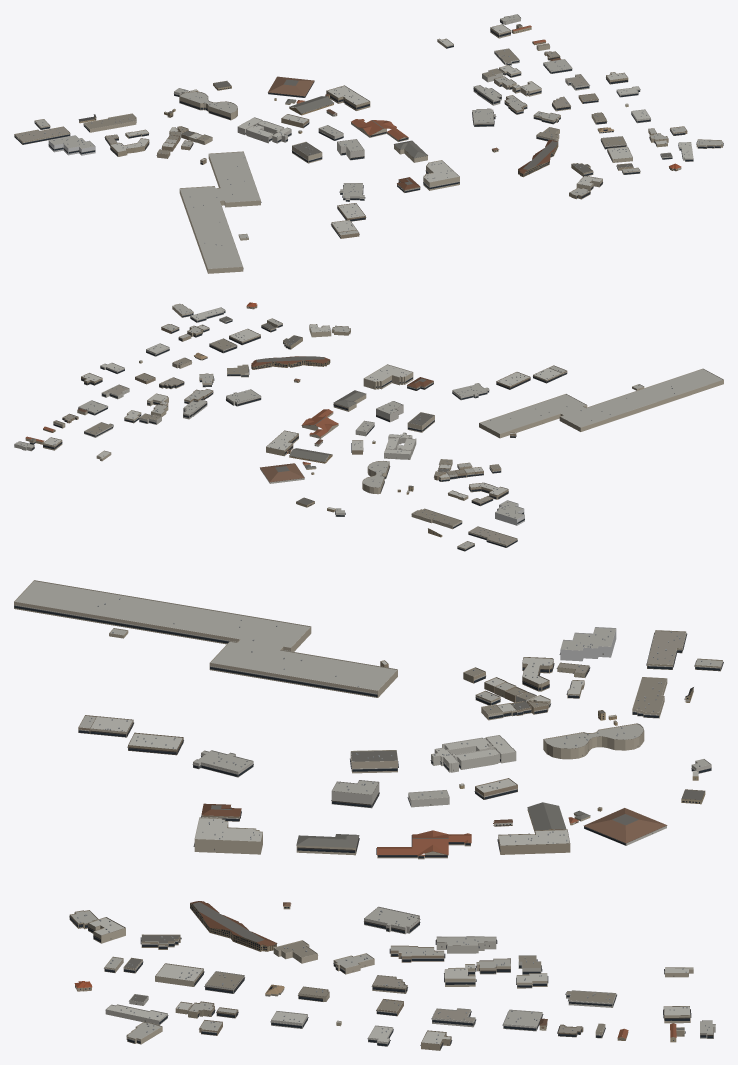
The picture shows the model from 3 angles, top to bottom: view 1: azimuth 30°, elevation 25°; view 2: azimuth 150°, elevation 25°; view 3: azimuth 270°, elevation 25°; orthographic projection. The views are drawn at different scales.
Visible parts, largest first — view 1: buildings_r3_c7_lod0; view 2: buildings_r3_c7_lod0; view 3: buildings_r3_c7_lod0.
Part boxes in pixels (<box>): buildings_r3_c7_lod0: <box>14,14,723,273</box>; buildings_r3_c7_lod0: <box>14,302,723,551</box>; buildings_r3_c7_lod0: <box>14,580,723,1050</box>.
Size of the model in its own units: 1220 by 88.87 by 887.
